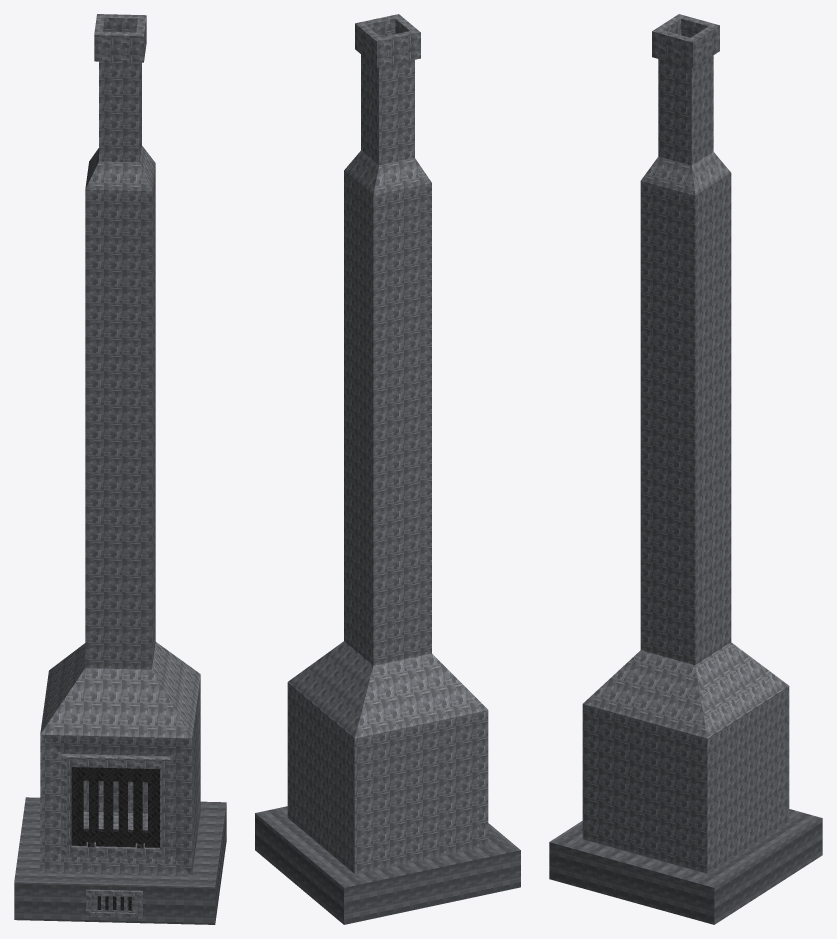
Rendered from BoxRefiner.fbx.
The picture shows the model from 3 angles, left to right: view 1: azimuth 30°, elevation 25°; view 2: azimuth 150°, elevation 25°; view 3: azimuth 270°, elevation 25°; orthographic projection.
Visible parts, largest first — view 1: boxRefiner, BoxRefinerDoor, vent; view 2: boxRefiner; view 3: boxRefiner.
Boxes of the visible parts, bbox=[...] form: boxRefiner: bbox=[14, 14, 226, 924]; BoxRefinerDoor: bbox=[71, 767, 159, 848]; vent: bbox=[86, 889, 142, 918]; boxRefiner: bbox=[255, 14, 520, 924]; boxRefiner: bbox=[549, 14, 822, 924].
Size of the model in its own units: 1540 by 5209 by 1540.
